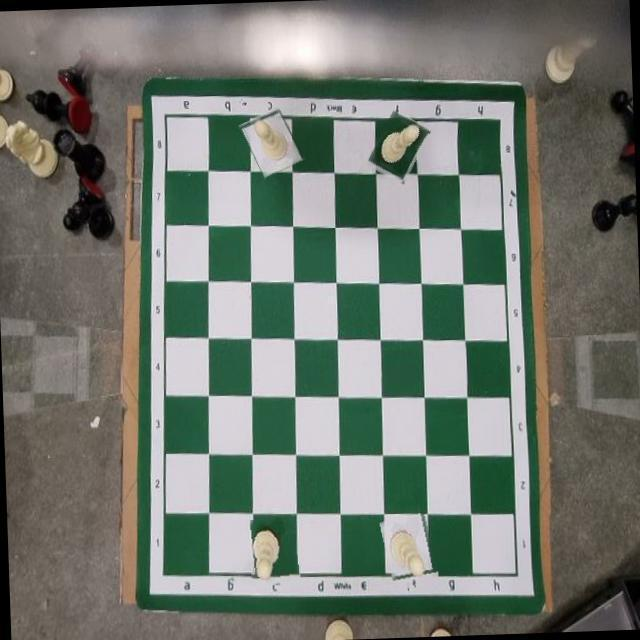chess-table-corners: (478, 102, 513, 138), (147, 98, 186, 130), (502, 562, 530, 590), (150, 562, 180, 586)
